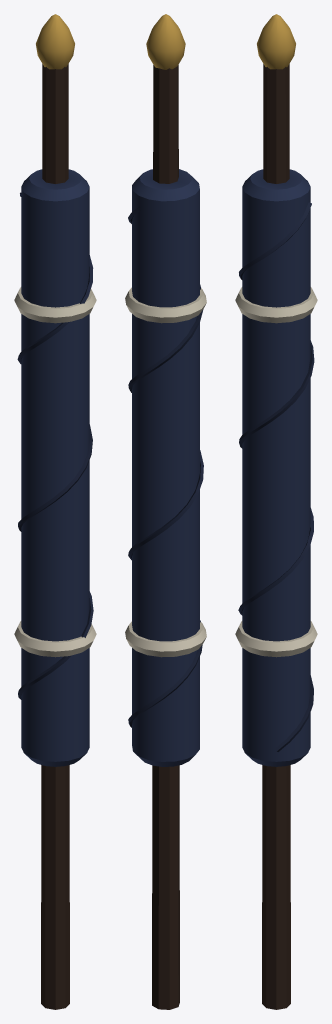
The model's file is nobori_rolled.glb.
3 views of the same model, side by side, from view 1: azimuth 90°, elevation 25°; view 2: azimuth 150°, elevation 25°; view 3: azimuth 270°, elevation 25° (orthographic).
Visible parts, largest first — view 1: rolled; view 2: rolled; view 3: rolled.
Part boxes in pixels (x1,y1,x2,y2): rolled: [14, 14, 96, 1009]; rolled: [125, 14, 206, 1009]; rolled: [235, 14, 317, 1009].
Size of the model in its own units: 0.1254 by 1.66 by 0.1254.
